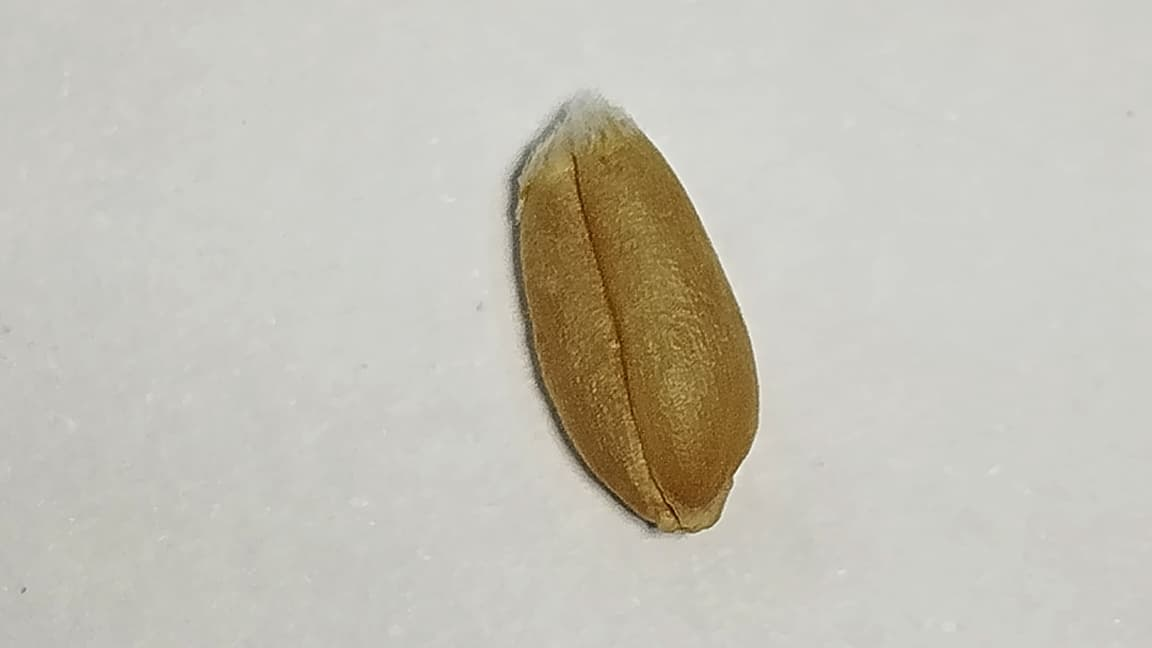healthy: (516, 98, 759, 532)
